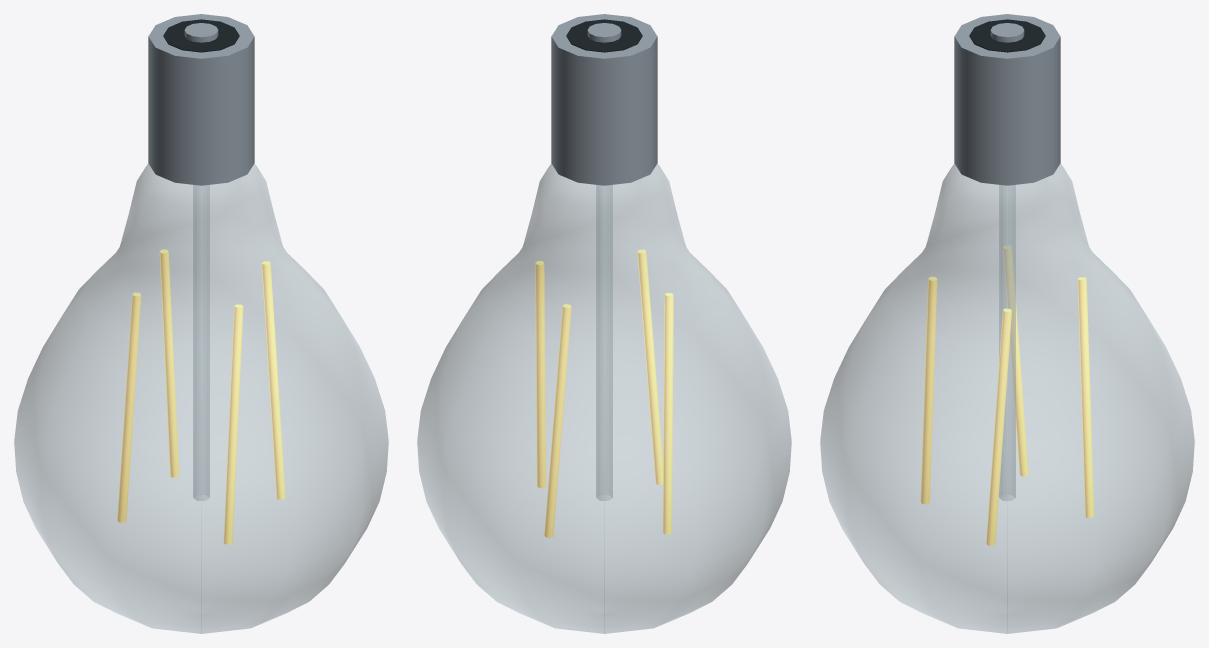
Rendered from source.glb.
3 renders of one model, left to right at view 1: azimuth 30°, elevation 25°; view 2: azimuth 150°, elevation 25°; view 3: azimuth 270°, elevation 25°, orthographic.
Parts seen in each view (by area): view 1: 光学透明件, 机加工金属, Emitters, 密封及绝缘件; view 2: 光学透明件, 机加工金属, Emitters, 密封及绝缘件; view 3: 光学透明件, 机加工金属, Emitters, 密封及绝缘件.
Part boxes in pixels (box(x1,y1,x2,y2)): 光学透明件: box(14, 163, 388, 633); 机加工金属: box(148, 14, 254, 185); Emitters: box(117, 249, 285, 544); 密封及绝缘件: box(163, 19, 239, 52); 光学透明件: box(417, 163, 791, 633); 机加工金属: box(551, 14, 657, 185); Emitters: box(535, 249, 673, 537); 密封及绝缘件: box(566, 19, 642, 52); 光学透明件: box(820, 163, 1194, 633); 机加工金属: box(954, 14, 1060, 185); Emitters: box(920, 245, 1094, 545); 密封及绝缘件: box(969, 19, 1045, 52).
Size of the model in its own units: 0.0954 by 0.1638 by 0.0954.
